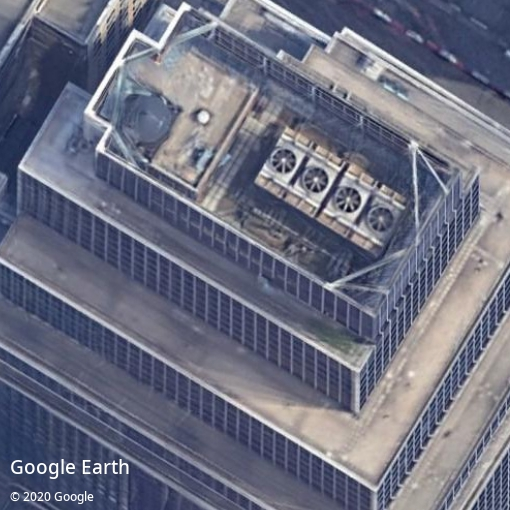Vent: (336, 187, 361, 212), (369, 206, 394, 231), (272, 149, 296, 173), (304, 167, 328, 191)
